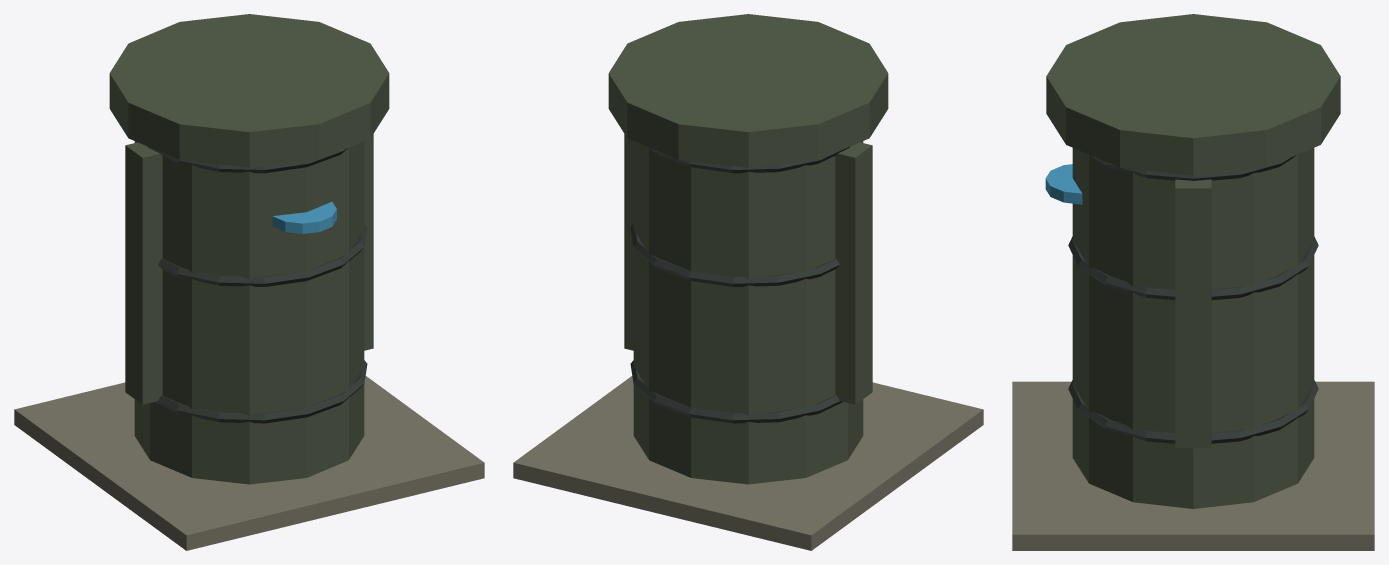
The model's file is Bastion_AdvancedGunTower_Base.obj.
3 views of the same model, side by side, from view 1: azimuth 30°, elevation 25°; view 2: azimuth 150°, elevation 25°; view 3: azimuth 270°, elevation 25° (orthographic). The views are drawn at different scales.
Visible parts, largest first — view 1: Bastion_AdvancedGunTower_Base; view 2: Bastion_AdvancedGunTower_Base; view 3: Bastion_AdvancedGunTower_Base.
Boxes of the visible parts, <box> form: Bastion_AdvancedGunTower_Base: <box>14,14,484,550</box>; Bastion_AdvancedGunTower_Base: <box>513,14,983,550</box>; Bastion_AdvancedGunTower_Base: <box>1012,14,1374,550</box>.
Bounding box in the file's own units: 4.8 × 5.82 × 4.8.
Materials: 1 (1 with a texture image).
